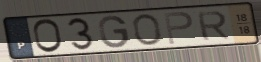3: (66, 15, 96, 53)
G: (98, 14, 131, 50)
O: (32, 18, 65, 55), (131, 13, 164, 47)
P: (162, 11, 195, 46)
R: (195, 10, 232, 42)
